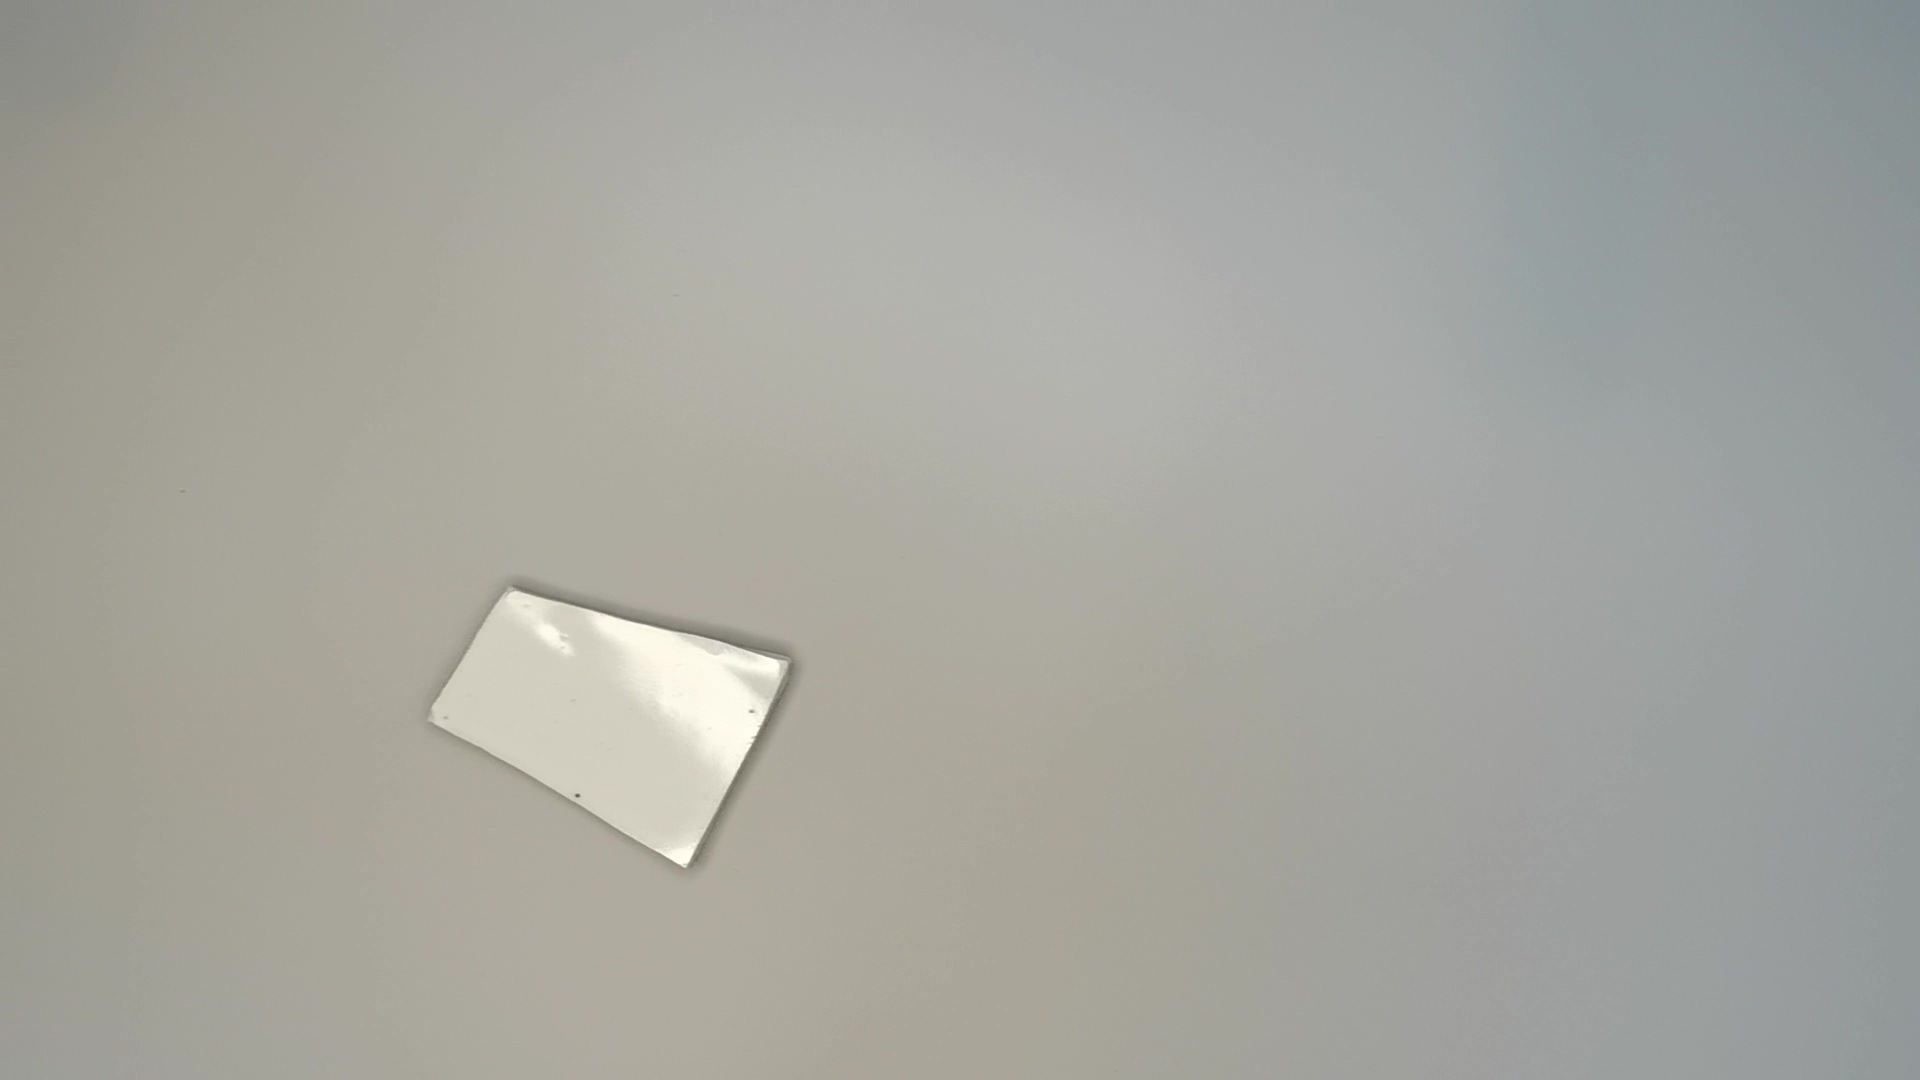ceramic: (423, 582, 796, 880)
